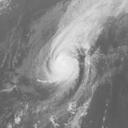cyclone: (42, 50, 80, 88)
